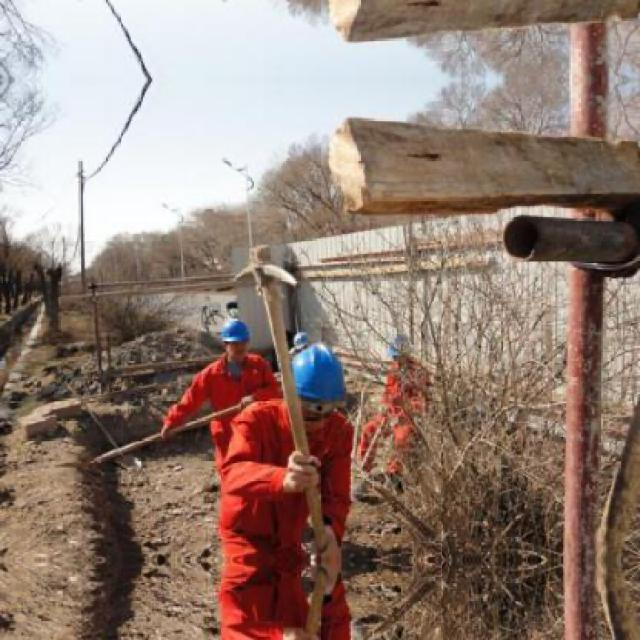Reflective-Jacket: (212, 408, 366, 578), (177, 352, 285, 450), (368, 355, 438, 457)
Safety-Helmet: (277, 342, 355, 412), (210, 311, 262, 352), (375, 323, 423, 365), (282, 324, 320, 356)
